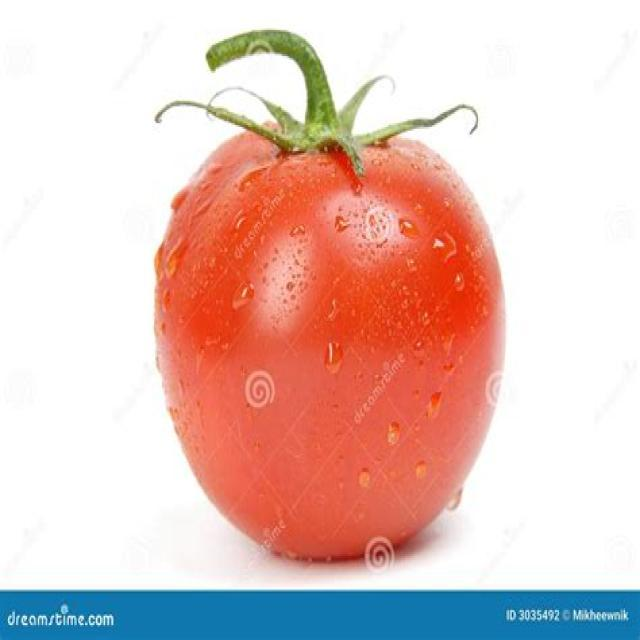Tomato: (152, 63, 509, 573)
